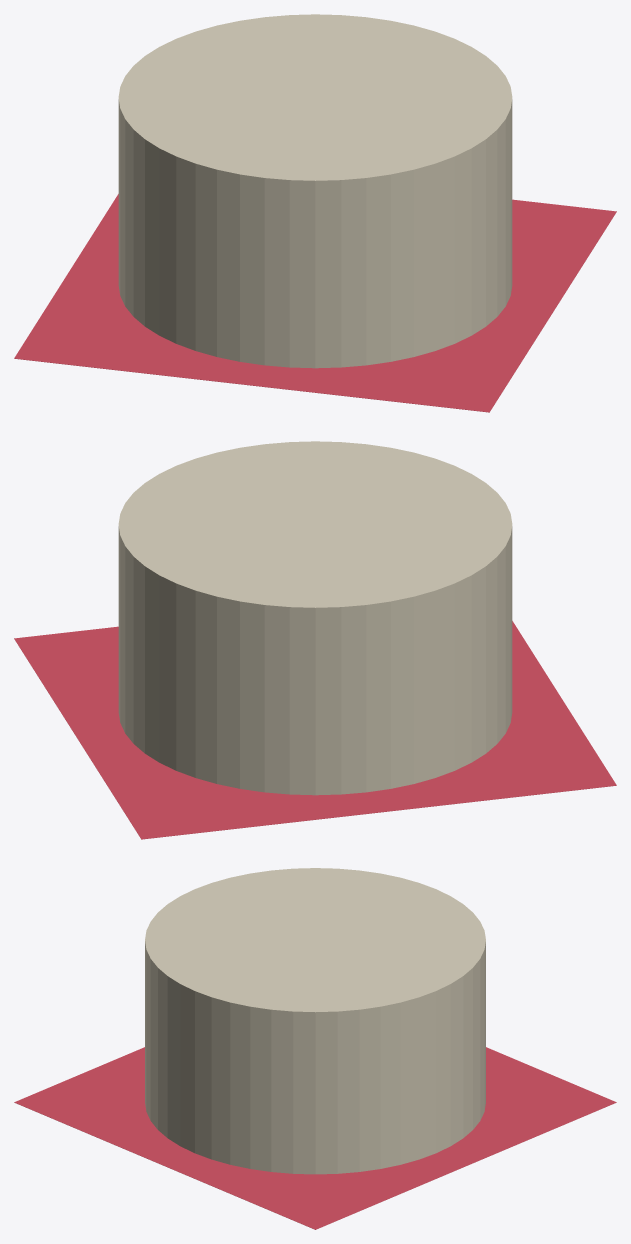
The model's file is VVV.glb.
3 views of the same model, one above another, from view 1: azimuth 30°, elevation 25°; view 2: azimuth 150°, elevation 25°; view 3: azimuth 270°, elevation 25° (orthographic). The views are drawn at different scales.
Visible parts, largest first — view 1: Mesh_Mesh_head_geo.001_lambert2SG.001; view 2: Mesh_Mesh_head_geo.001_lambert2SG.001; view 3: Mesh_Mesh_head_geo.001_lambert2SG.001.
Boxes of the visible parts, bbox=[...] form: Mesh_Mesh_head_geo.001_lambert2SG.001: bbox=[14, 14, 616, 412]; Mesh_Mesh_head_geo.001_lambert2SG.001: bbox=[14, 441, 616, 839]; Mesh_Mesh_head_geo.001_lambert2SG.001: bbox=[14, 868, 616, 1229].
Size of the model in its own units: 0.0354 by 0.0105 by 0.0354.
